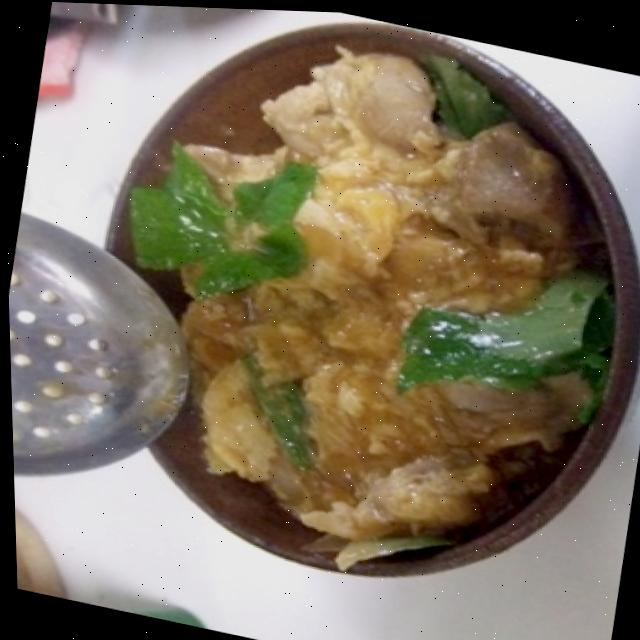米饭主食: (46, 1, 640, 627)
